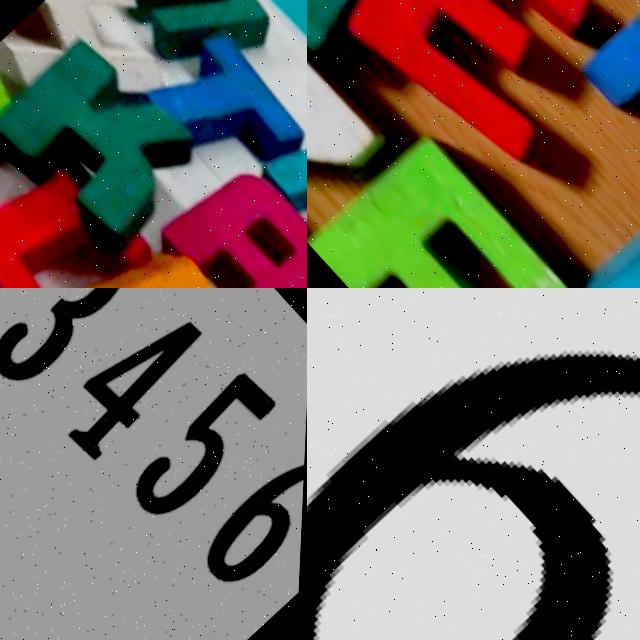3: (0, 288, 166, 410)
4: (30, 288, 240, 487)
5: (105, 328, 307, 550)
6: (307, 288, 640, 640), (164, 400, 307, 625)
A: (162, 153, 307, 288)
E: (307, 0, 640, 194)
F: (307, 117, 611, 288)
K: (0, 28, 214, 257)
L: (27, 212, 295, 288)
M: (91, 0, 296, 98)
P: (504, 182, 640, 288), (261, 113, 307, 288)
T: (127, 15, 307, 210)
